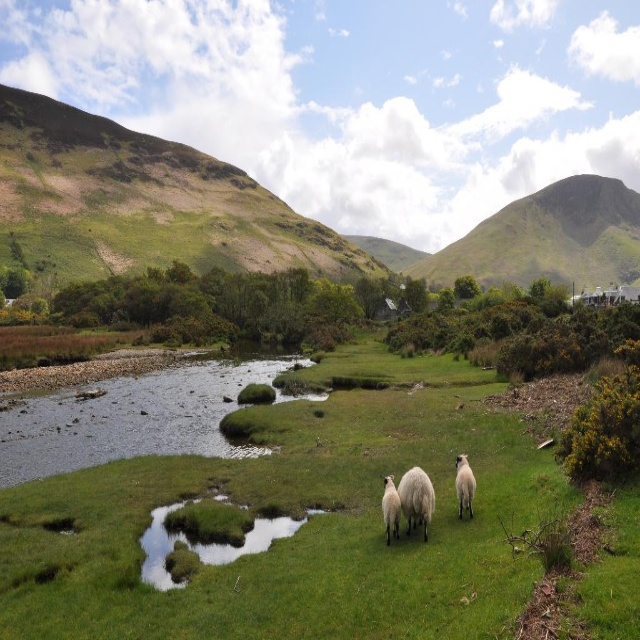Sheep: (397, 466, 435, 542), (454, 452, 477, 517), (382, 473, 402, 545)
